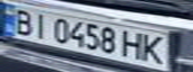0: (48, 15, 72, 45)
4: (66, 19, 87, 48)
5: (81, 21, 103, 52)
8: (96, 25, 121, 56)
B: (6, 6, 39, 36)
H: (118, 29, 148, 61)
I: (27, 10, 54, 38)
K: (139, 32, 169, 65)
